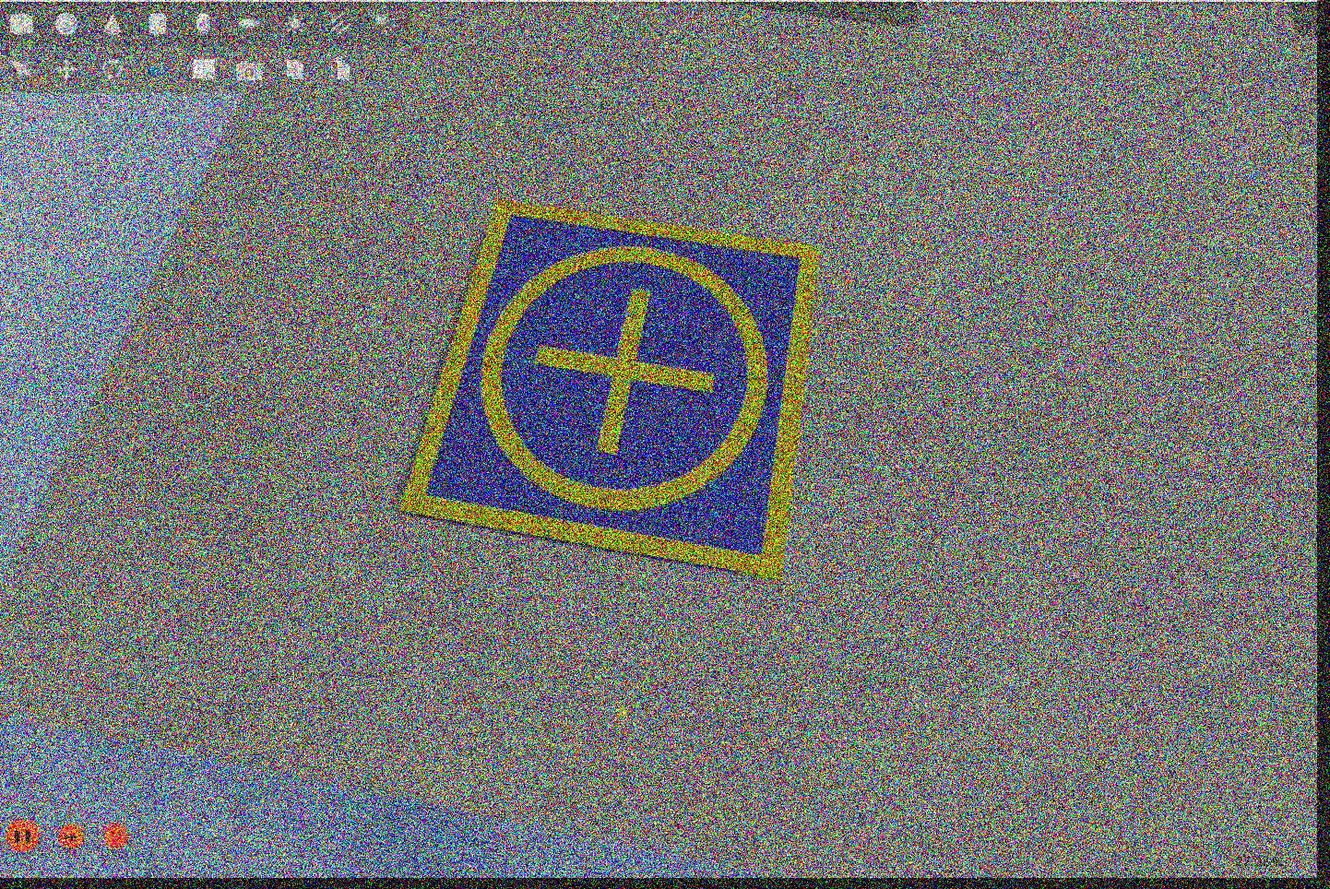small_base: (398, 197, 824, 586)
